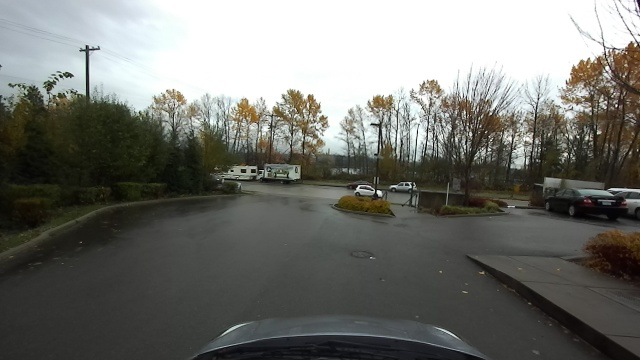car: (545, 184, 628, 222), (608, 180, 640, 221), (256, 162, 300, 184), (216, 163, 255, 179), (389, 181, 418, 194), (354, 185, 383, 197), (345, 180, 371, 186)
